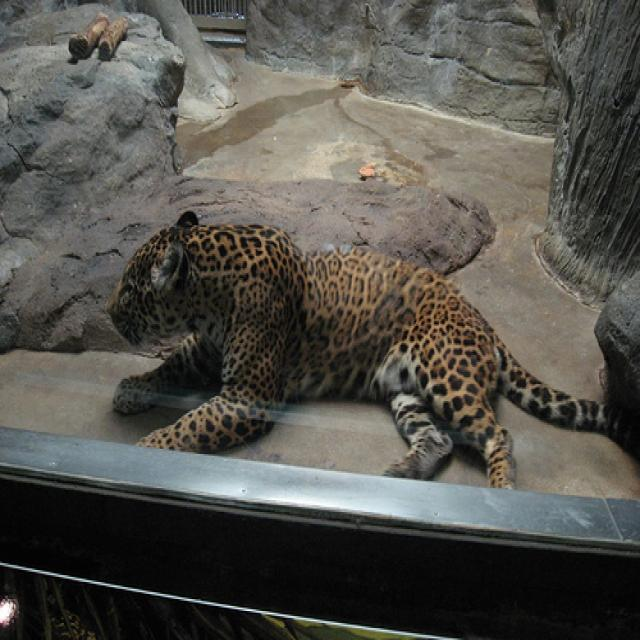Leopard: (101, 203, 638, 493)
